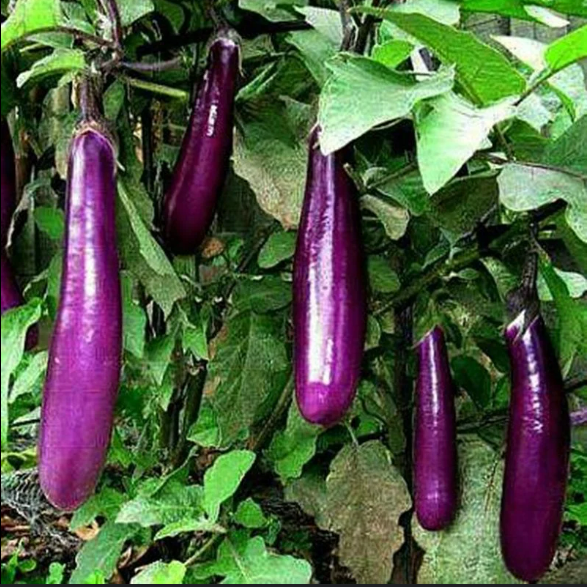catim: (45, 70, 121, 516), (483, 234, 570, 582), (287, 113, 371, 443), (395, 278, 469, 535), (171, 20, 245, 264)
